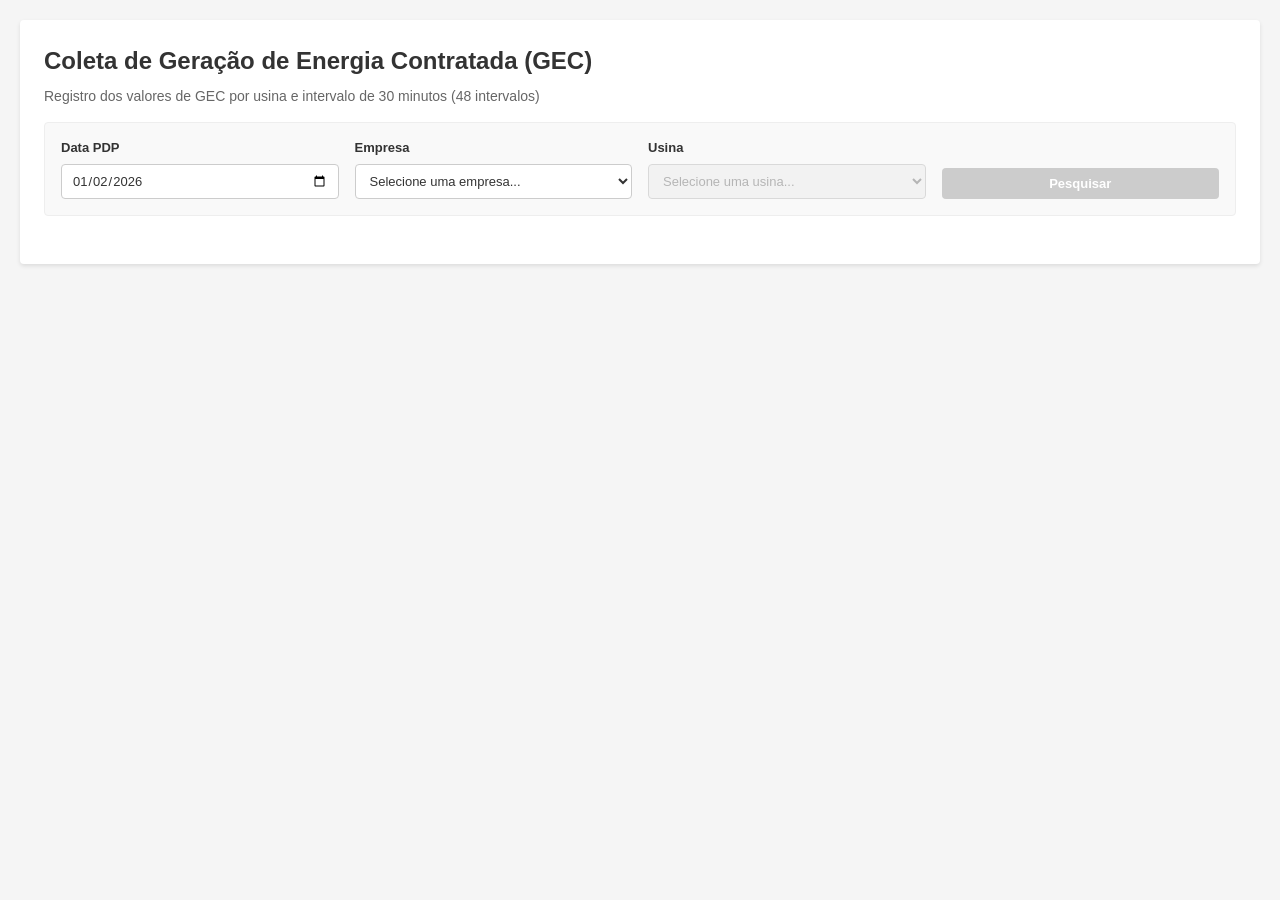
Test: GEC Component › deve carregar dados ao clicar em Pesquisar
Simula seleção de empresa
Select "Empresa Geradora Norte" in the dropdown labelled "Empresa" at (493, 181), box x1=354 y1=164 x2=632 y2=199
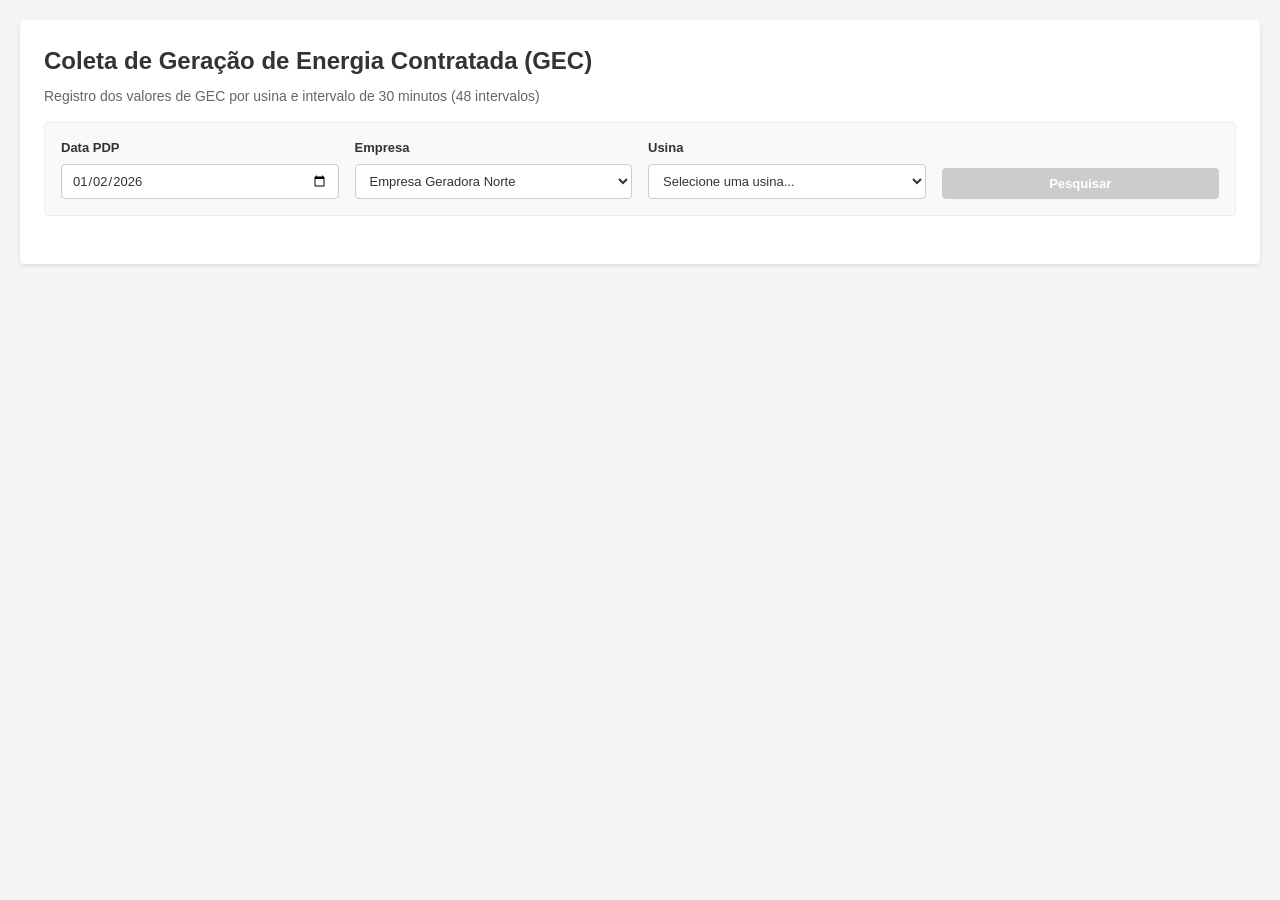
Simula seleção de usina (necessário para habilitar o botão)
Select "Usina Geradora 1" in the dropdown labelled "Usina" at (787, 181), box x1=648 y1=164 x2=926 y2=199
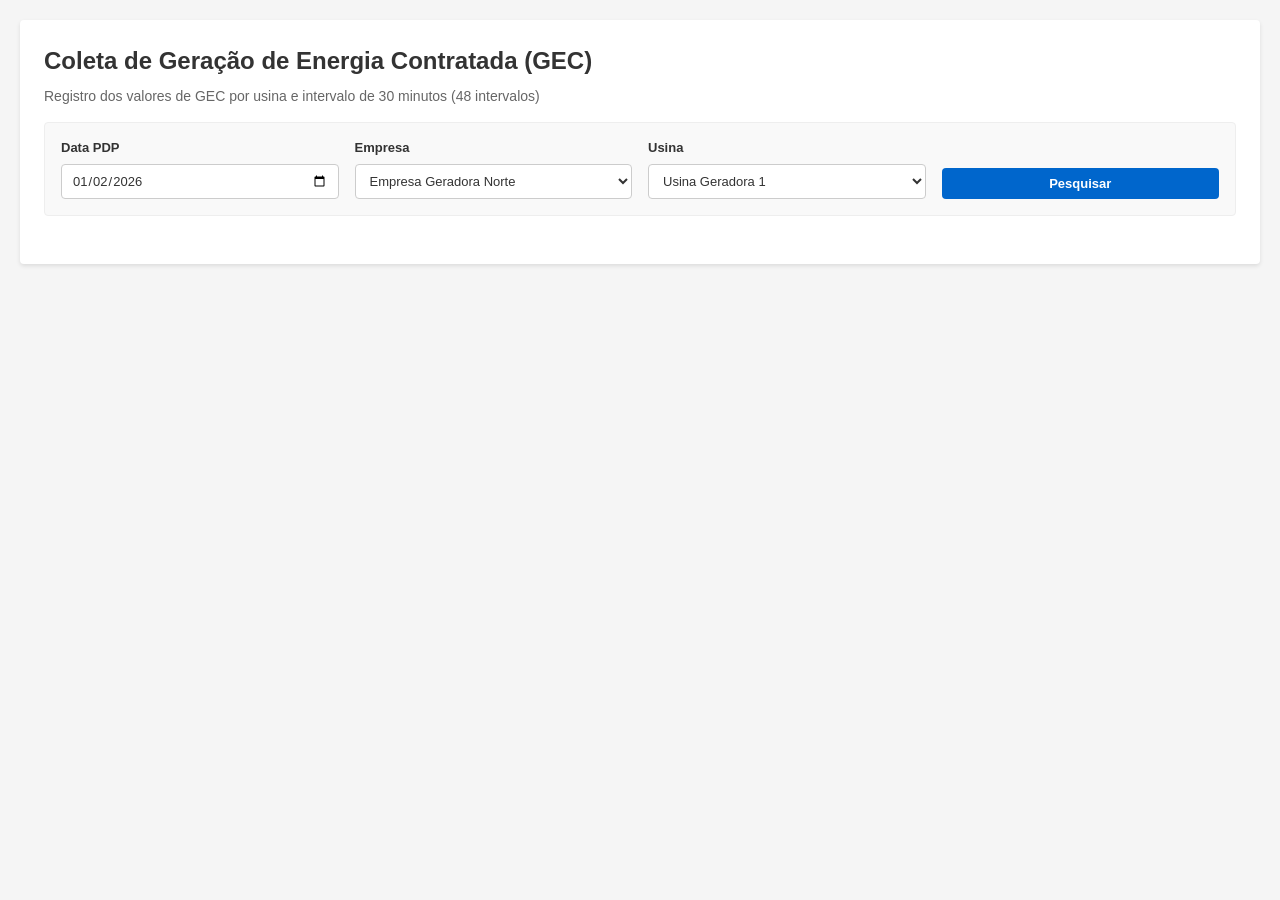
Check: the button "Pesquisar" is enabled
Click the button "Pesquisar" at (1080, 183), box x1=942 y1=168 x2=1219 y2=199
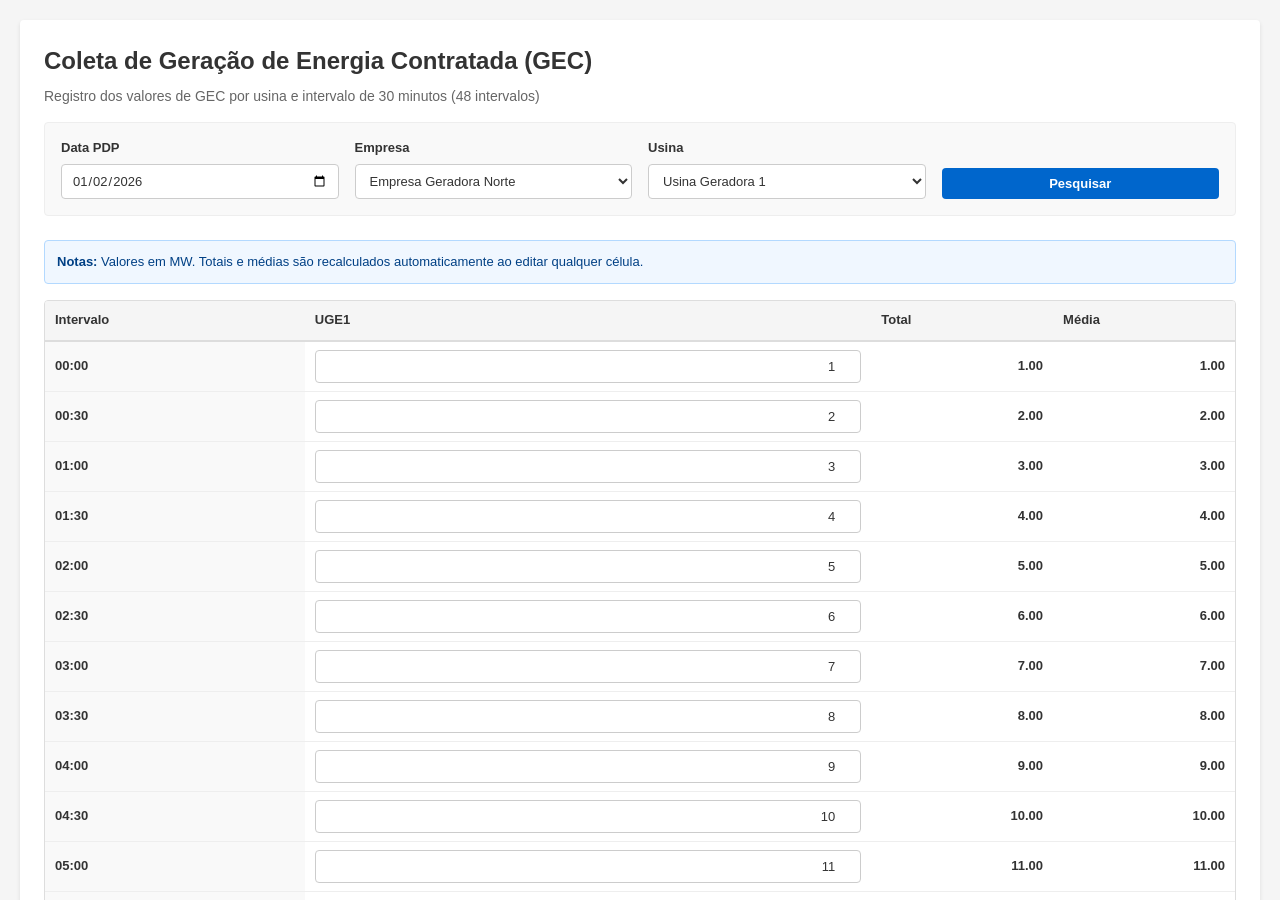
Check: the column heading "Intervalo" is shown, box x1=45 y1=301 x2=305 y2=341
Check: the column heading "Total" is shown, box x1=871 y1=301 x2=1053 y2=341
